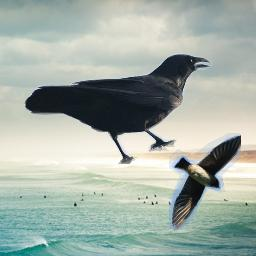Crow: (24, 53, 213, 164)
Swallow: (169, 133, 241, 230)
